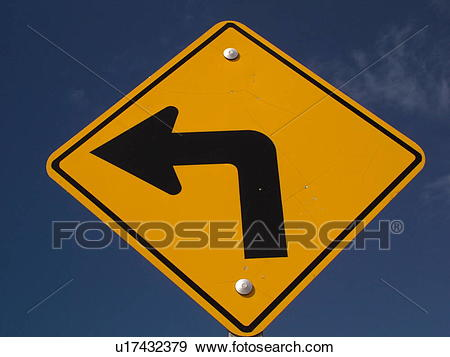left: (41, 16, 425, 337)
